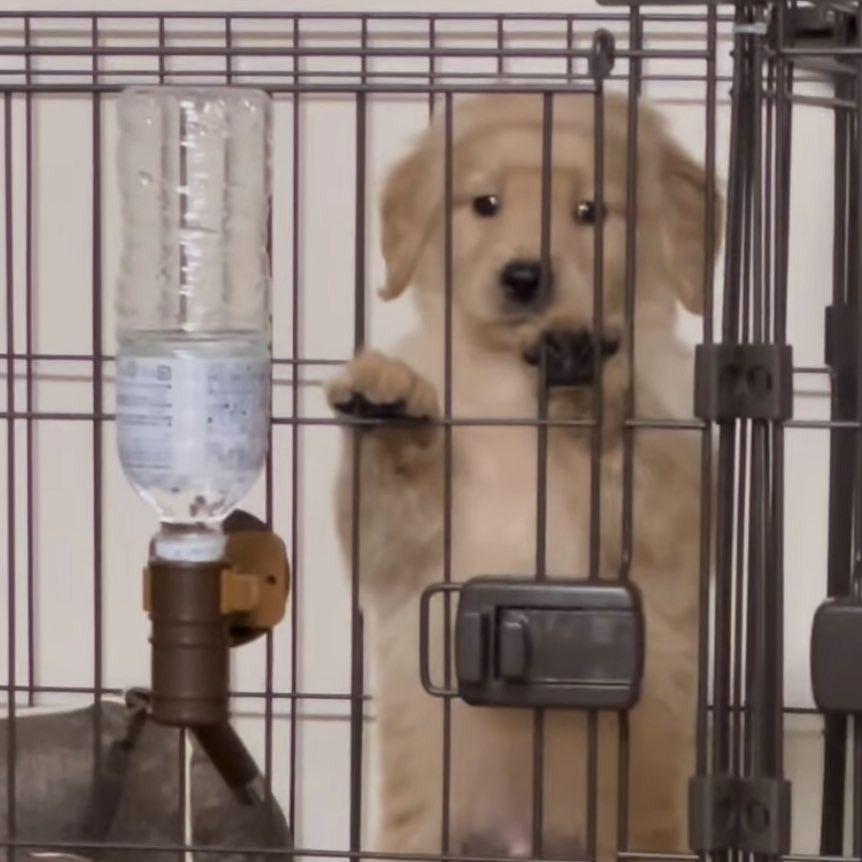puppy-dog: (326, 87, 718, 862)
